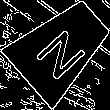N_NE: (30, 16, 92, 80)
